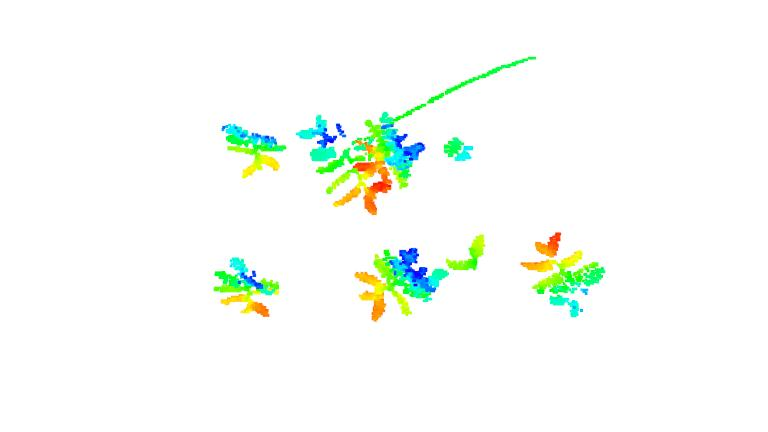chickpea: (293, 114, 389, 218), (516, 230, 606, 317), (352, 246, 450, 322), (353, 112, 424, 188), (209, 256, 280, 317), (218, 123, 285, 177), (445, 231, 491, 272), (440, 135, 475, 163)
